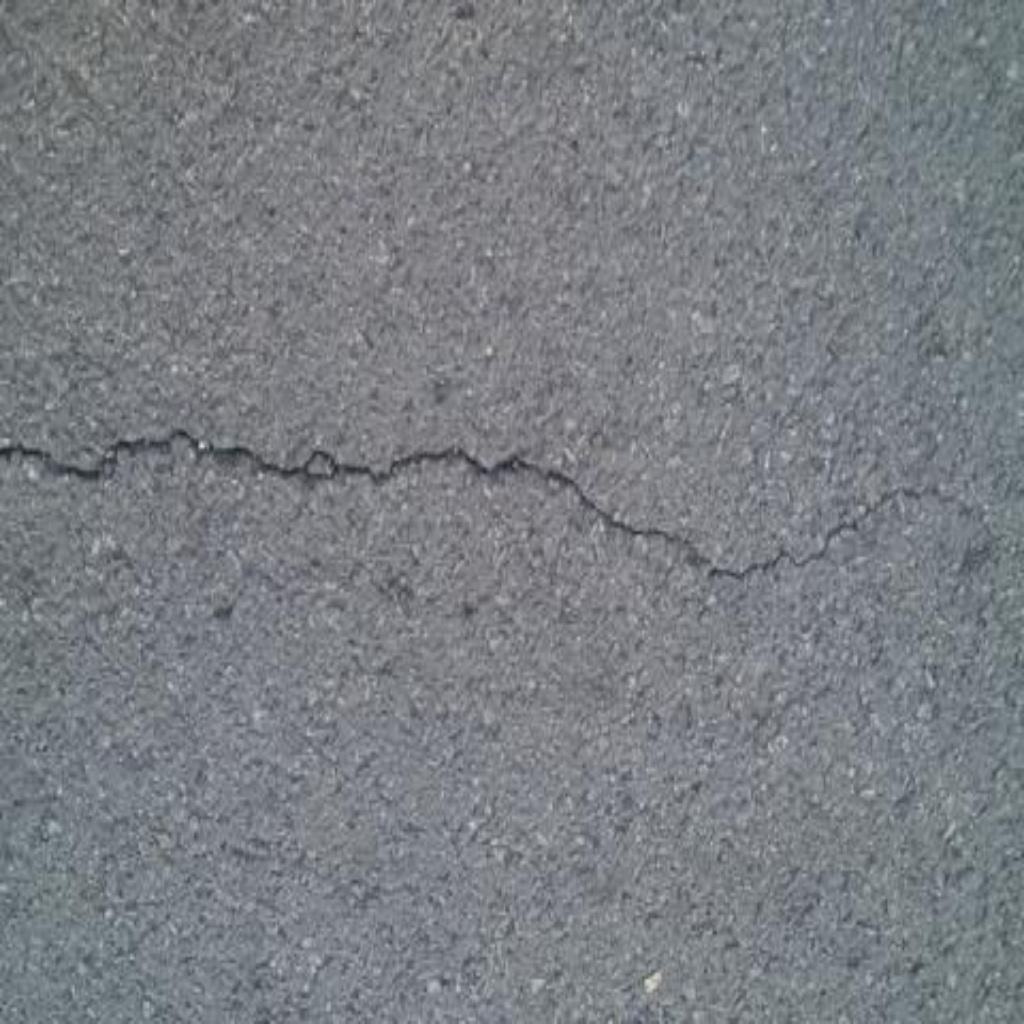Crack: (1, 426, 971, 582)
